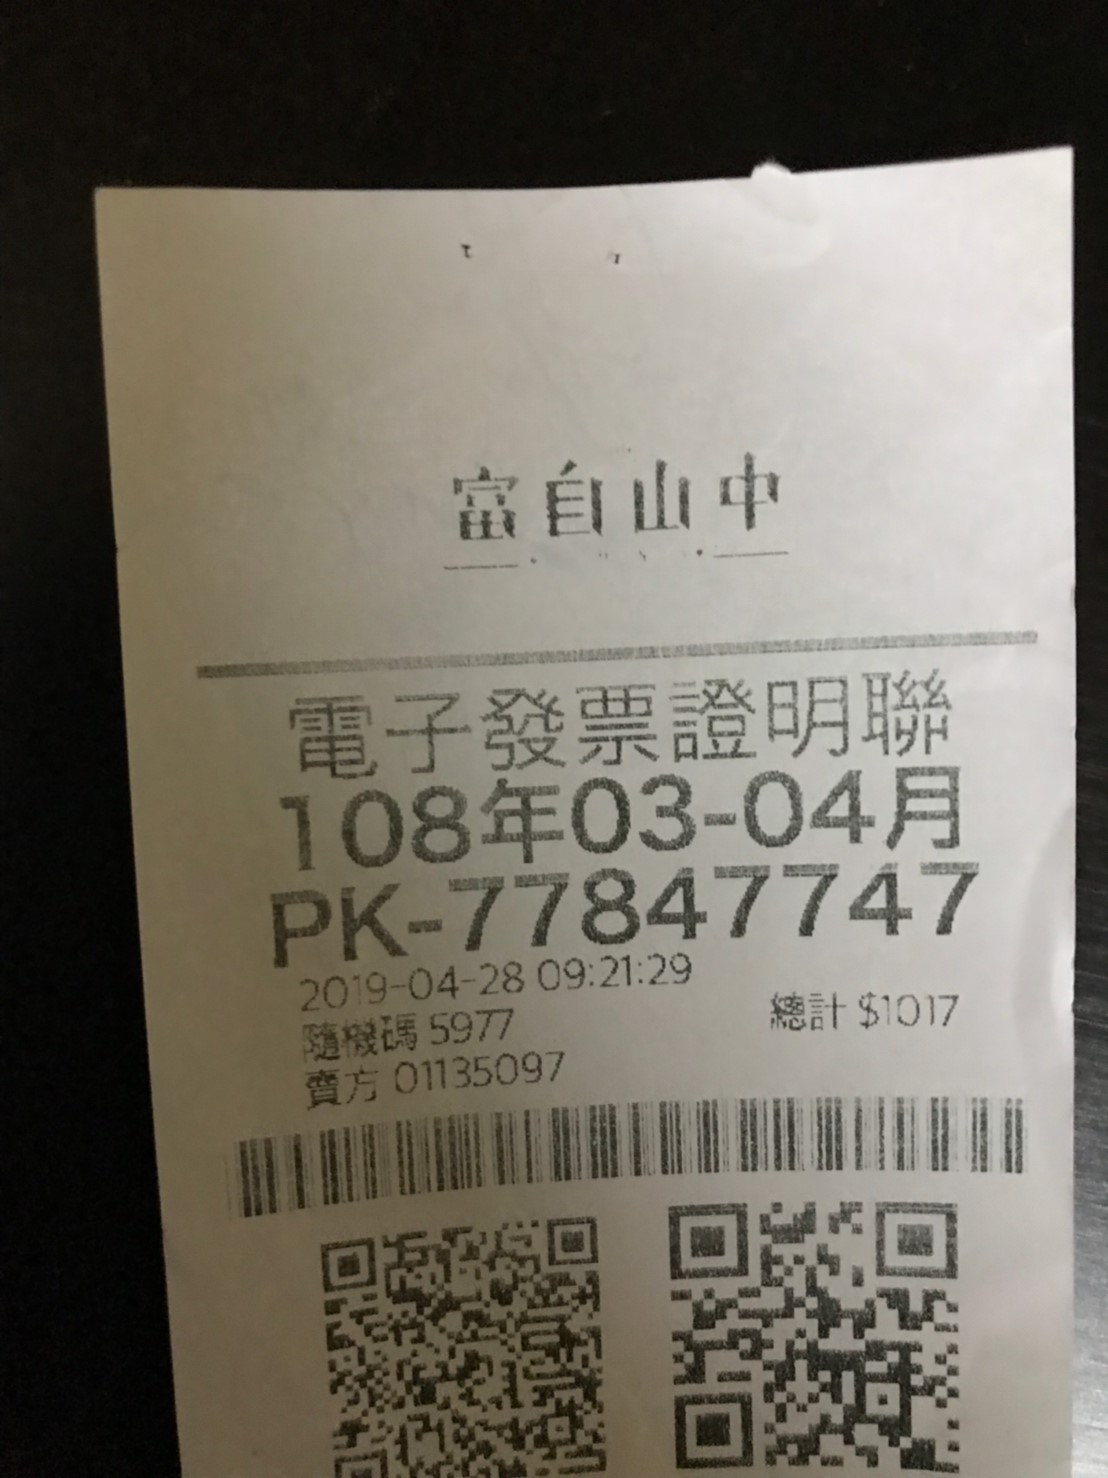Date_New: (277, 766, 963, 871)
Number_New: (452, 864, 980, 951)
